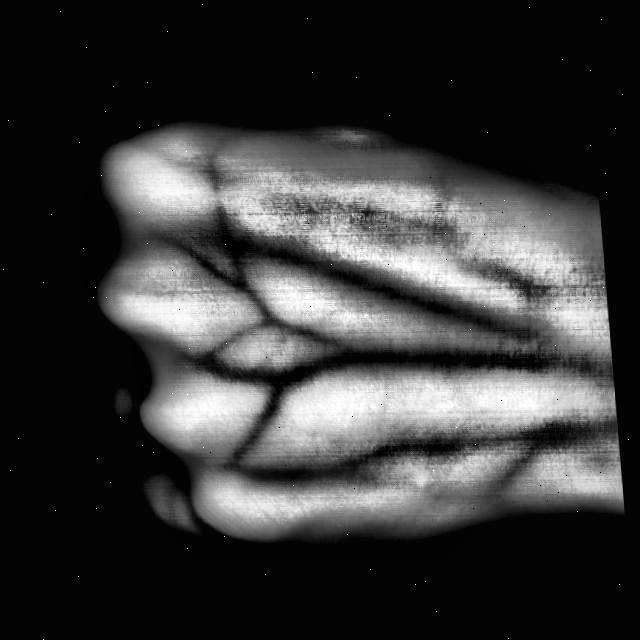Vein: (321, 259, 511, 340), (356, 347, 555, 376)
